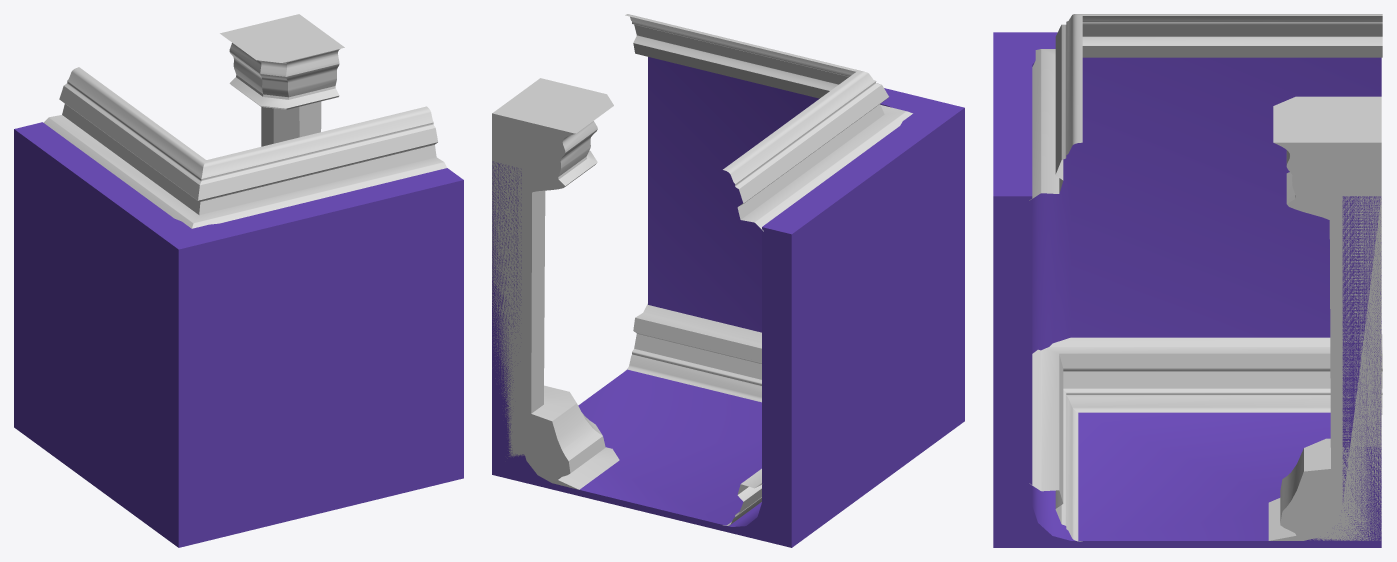
Rendered from Tileset_Piece_5.fbx.
The picture shows the model from 3 angles, left to right: view 1: azimuth 30°, elevation 25°; view 2: azimuth 150°, elevation 25°; view 3: azimuth 270°, elevation 25°; orthographic projection. The views are drawn at different scales.
Parts seen in each view (by area): view 1: Tileset_Piece_5; view 2: Tileset_Piece_5; view 3: Tileset_Piece_5.
Part boxes in pixels (<box>): Tileset_Piece_5: <box>14,14,463,547</box>; Tileset_Piece_5: <box>492,14,964,547</box>; Tileset_Piece_5: <box>993,14,1382,547</box>.
Size of the model in its own units: 100 by 115 by 100.
